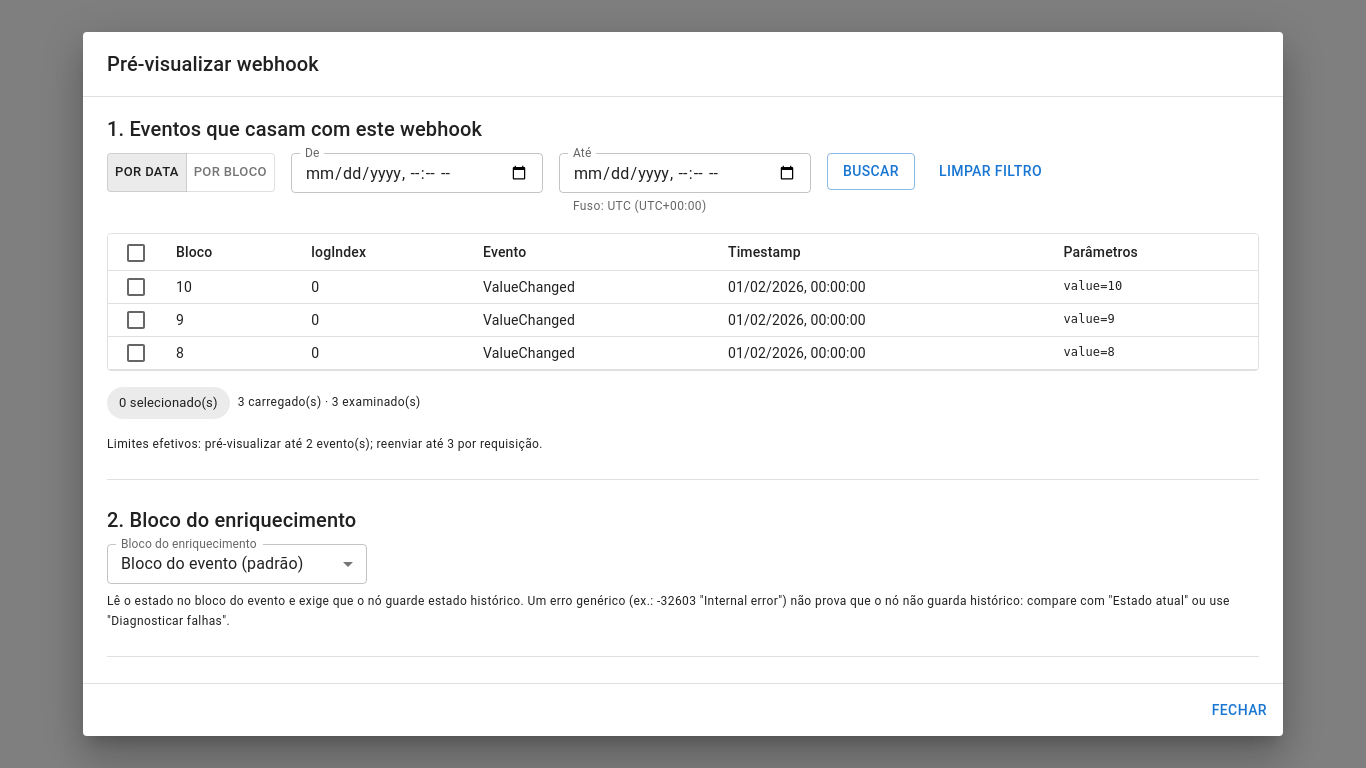
Test: WebhookResendDialog — pré-visualização › evento que não casa é renderizado com chip e aviso
This screenshot has width=1366, height=768.
Click the checkbox named "selecionar evento do bloco 9 " at (136, 320), box [124, 308, 148, 332]
(page scrolled)
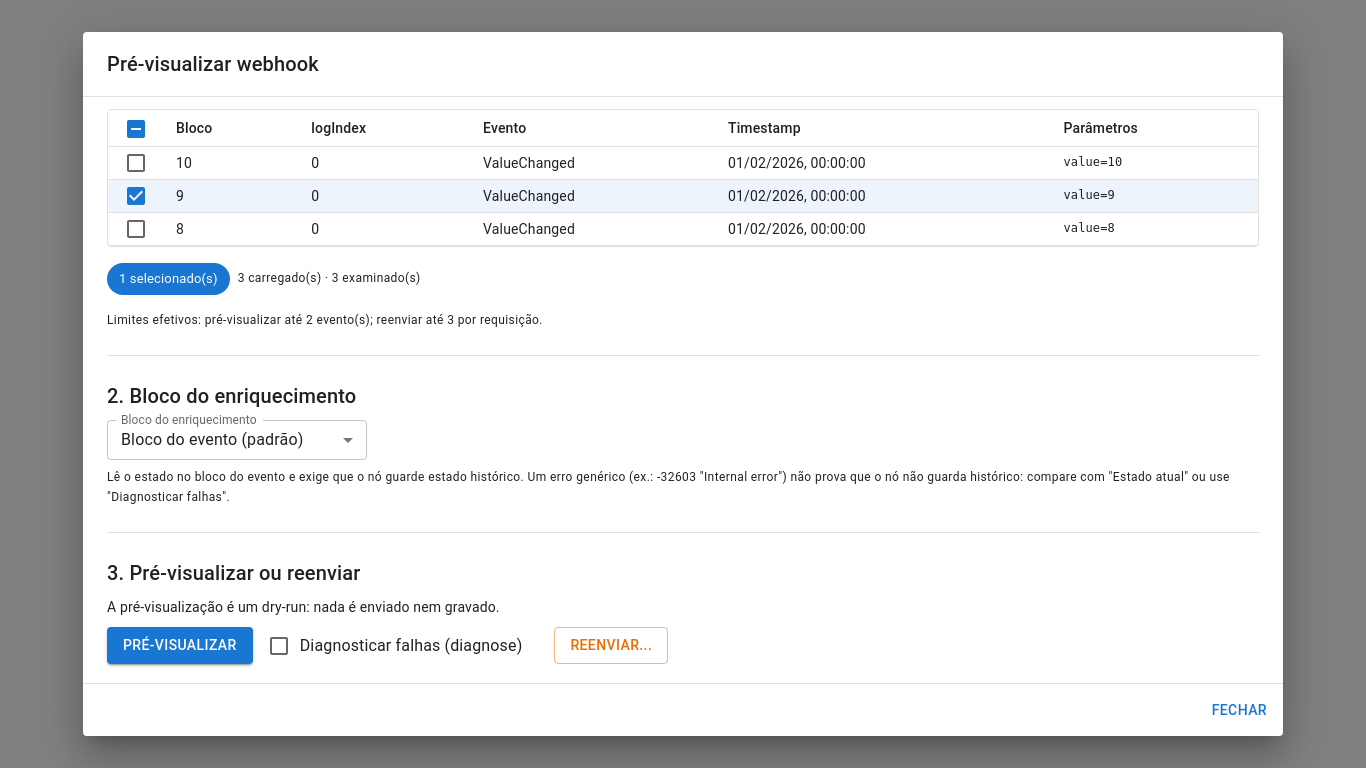
Click the button "Pré-visualizar" at (180, 646), box [107, 627, 253, 664]
(page scrolled)
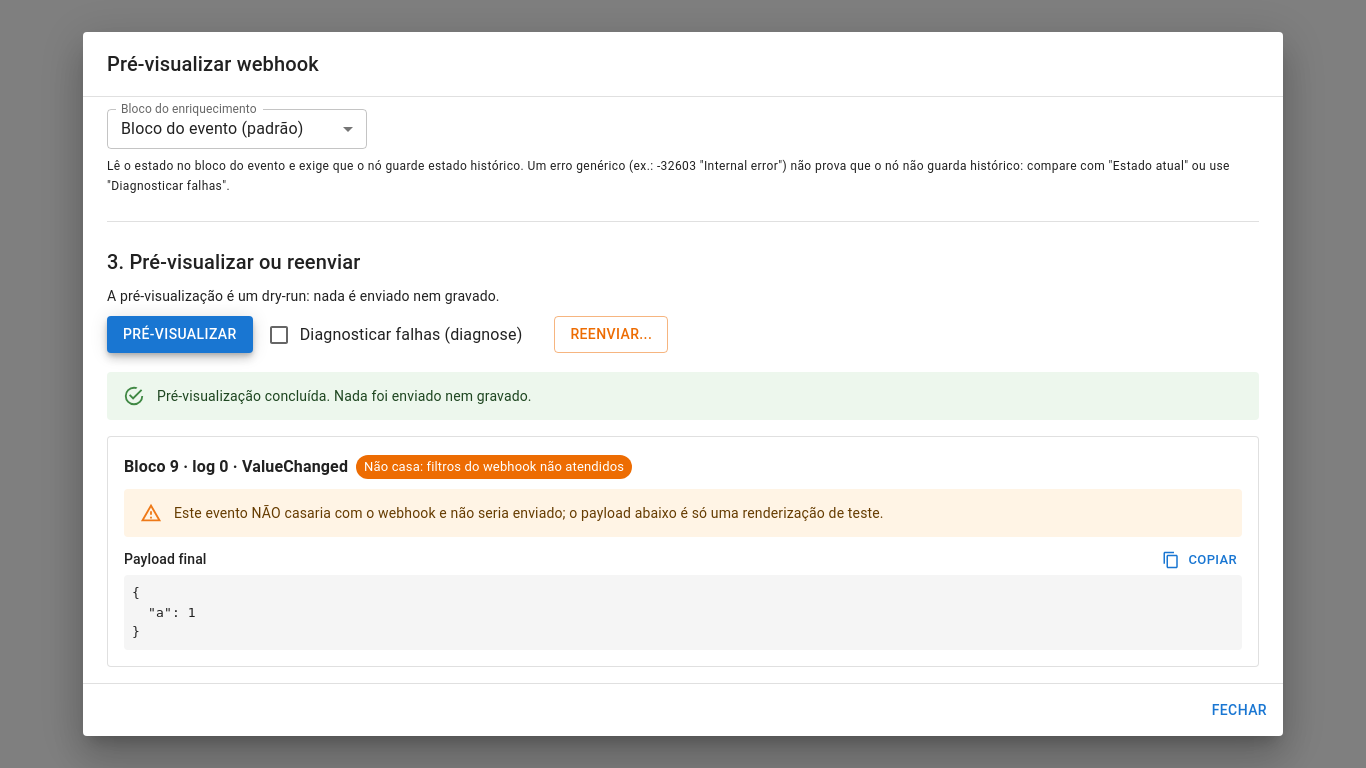
Now the text "Não casa: filtros do webhook não atendidos" is shown, box [356, 457, 632, 476]
Now the text "NÃO casaria com o webhook" is shown, box [174, 505, 884, 521]
Now the text "{ \"a\": 1 }" is shown, box [124, 576, 1242, 650]
